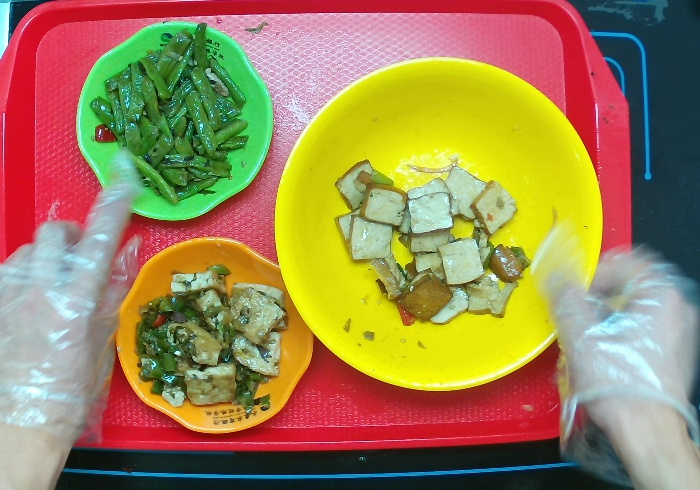YKMZ-Huang_Se_Tang_Wan: (270, 55, 605, 390)
YKMZ-Ju_Se_Ao_Bian_Wan: (115, 232, 319, 440)
YKMZ-Lv_Se_Ao_Bian_Wan: (75, 19, 277, 225)
